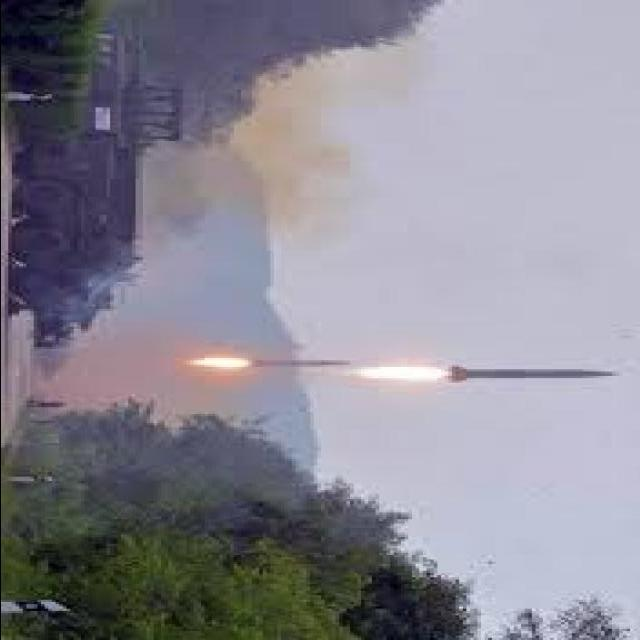missile: (437, 365, 623, 386), (223, 356, 357, 372)
